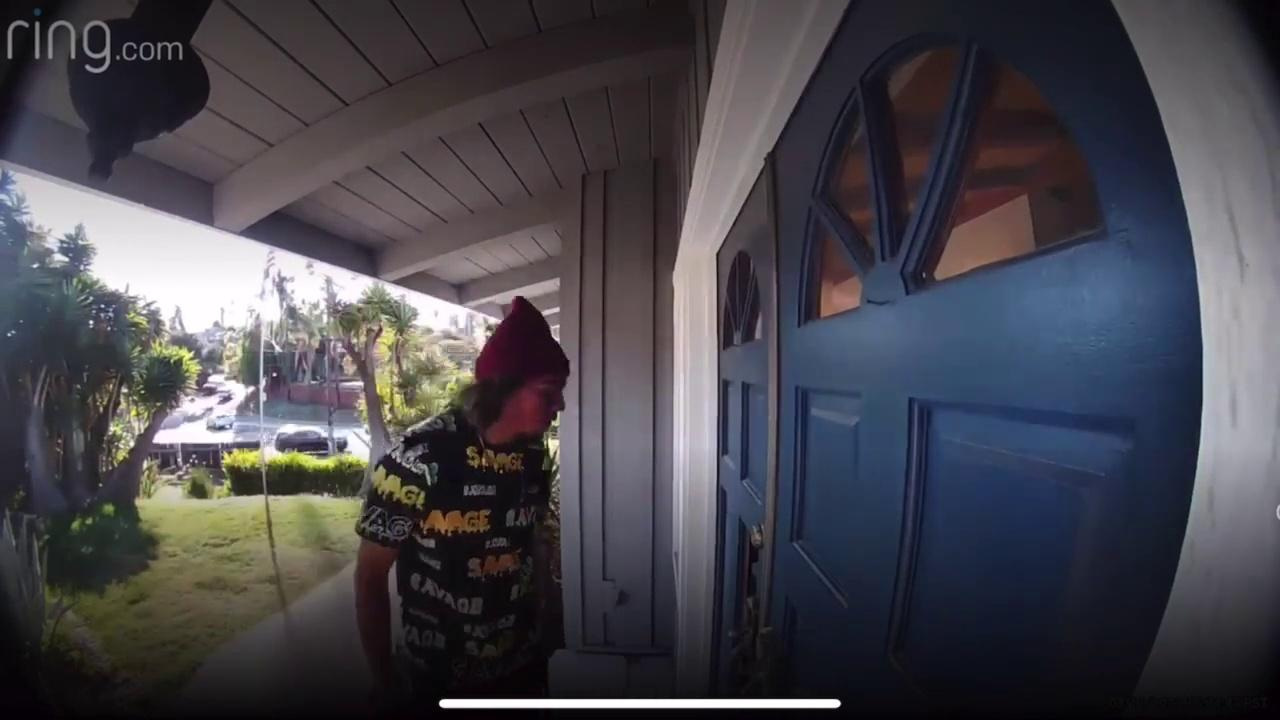suspicion: (390, 284, 608, 718)
